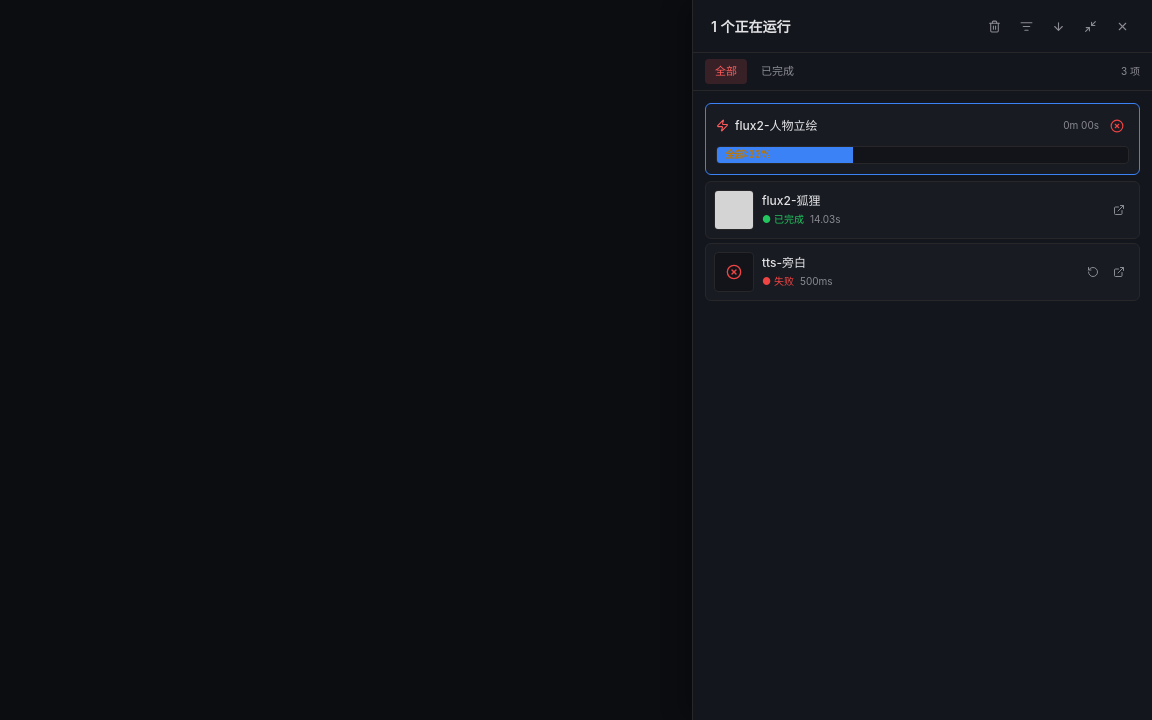
Test: TaskPanel — ComfyUI 对齐(PR-5) › 「全部」tab 显示所有任务,「已完成」tab 过滤掉 running
Expected: the text "flux2-人物立绘" is shown, [735,118,817,132]
Expected: the text "flux2-狐狸" is shown, [762,193,820,208]
Click the button "已完成": click(778, 71) [751,59,804,84]
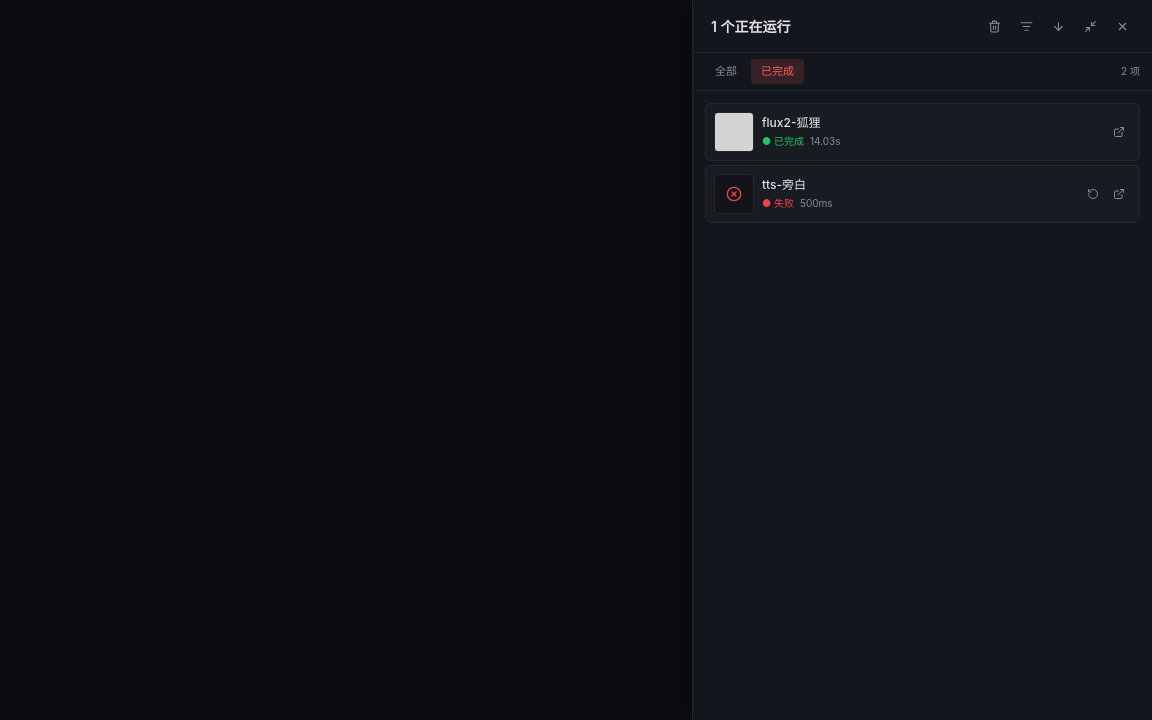
Expected: the text "flux2-狐狸" is shown, [762,115,820,130]
Expected: the text "flux2-人物立绘" is gone
